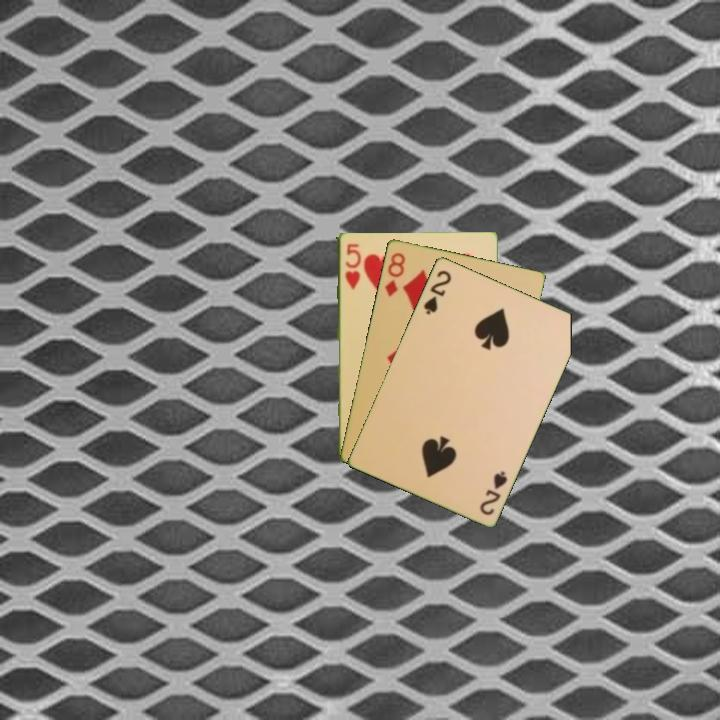2s: (420, 266, 454, 317), (476, 467, 510, 518)
5h: (341, 240, 362, 292)
8d: (381, 249, 408, 299)
